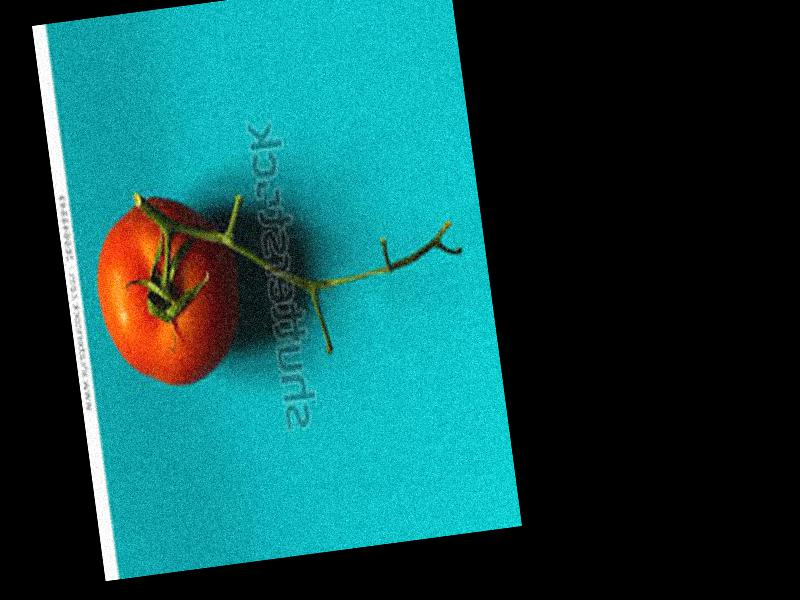Tomato: (88, 187, 247, 393)
